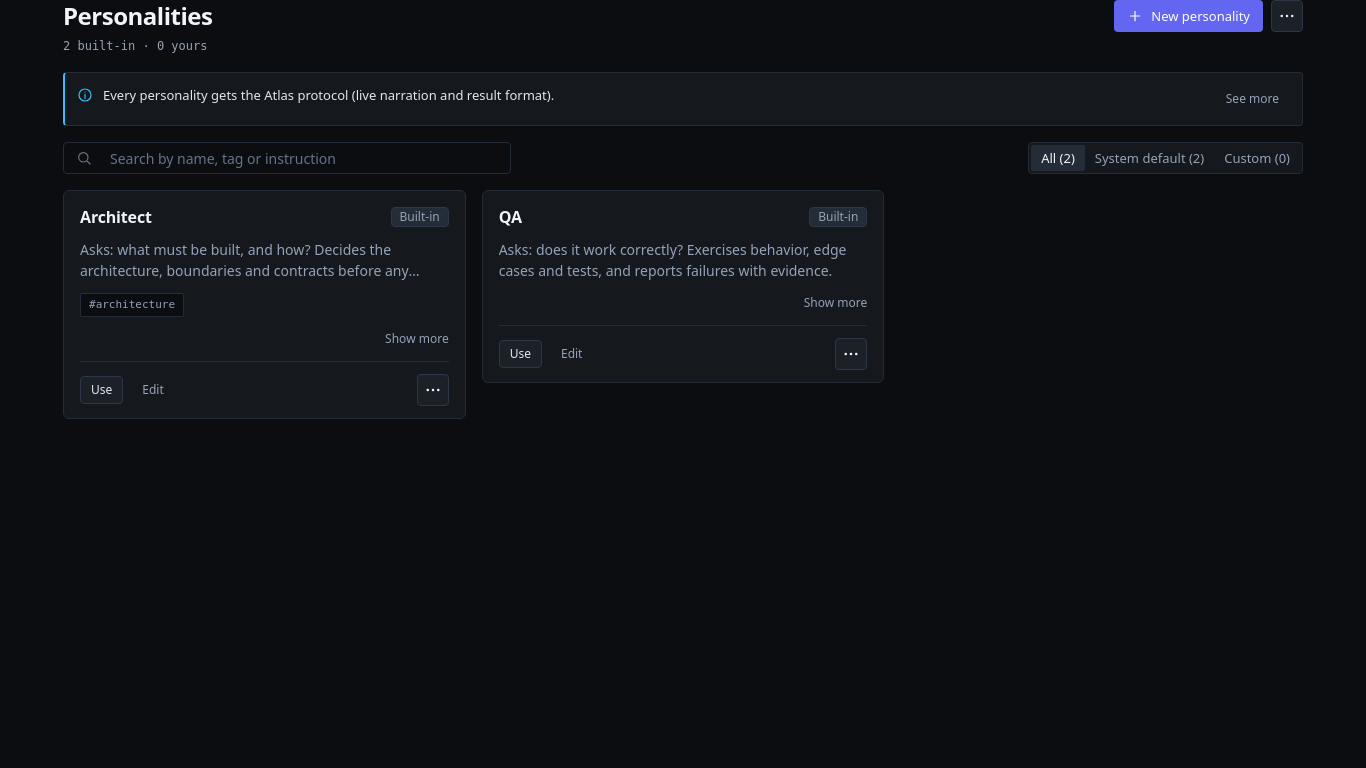
Test: PersonalitiesPage › edits a personality and shows the saved version
This screenshot has width=1366, height=768.
Click the button with aria-label "Edit Architect". click: [153, 390]
box: [131,376,175,404]
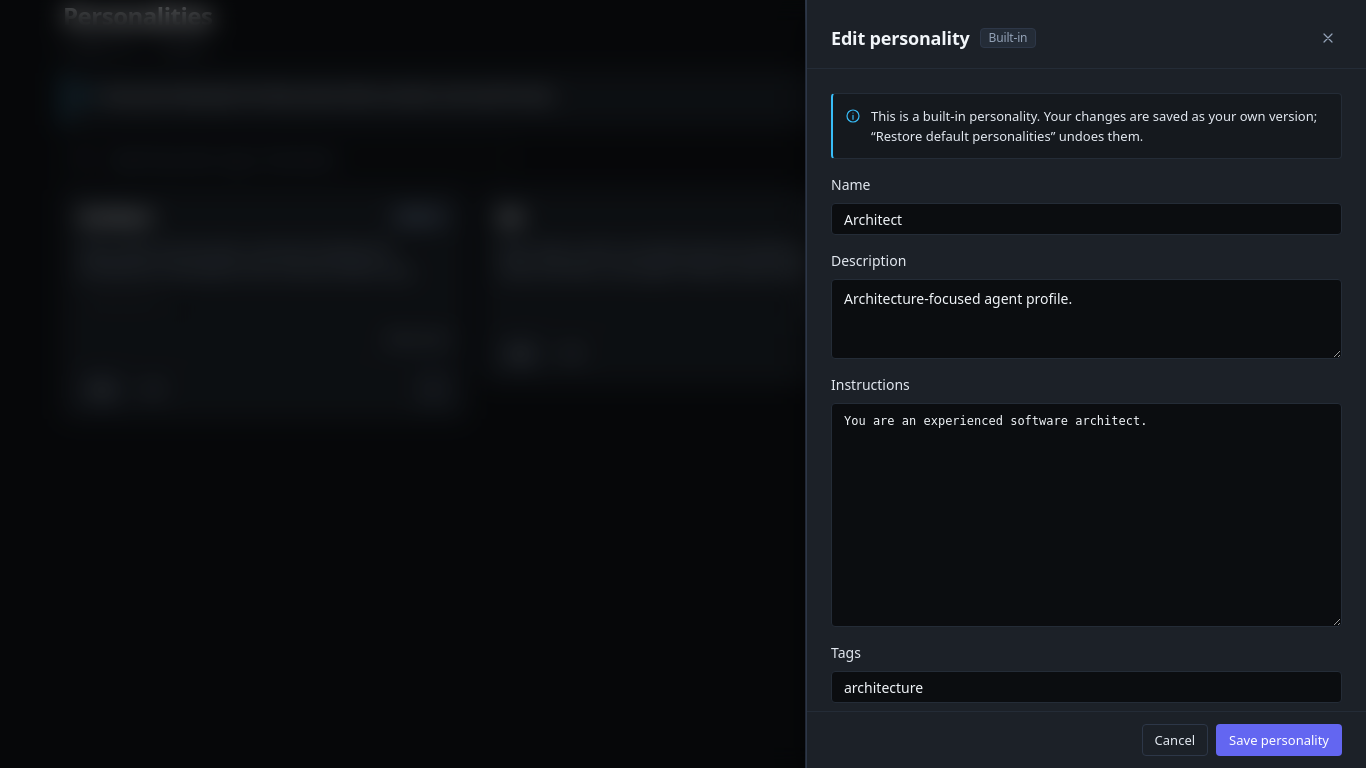
Now the text box labelled "Instructions" holds "You are an experienced software architect.", box [831,403,1342,627]
Now the text "built-in personality" is shown, box [871,107,1317,145]
Replace the text in the field labelled "Name" with "Strict Architect". click: [1086, 219]
box: [831,203,1342,235]
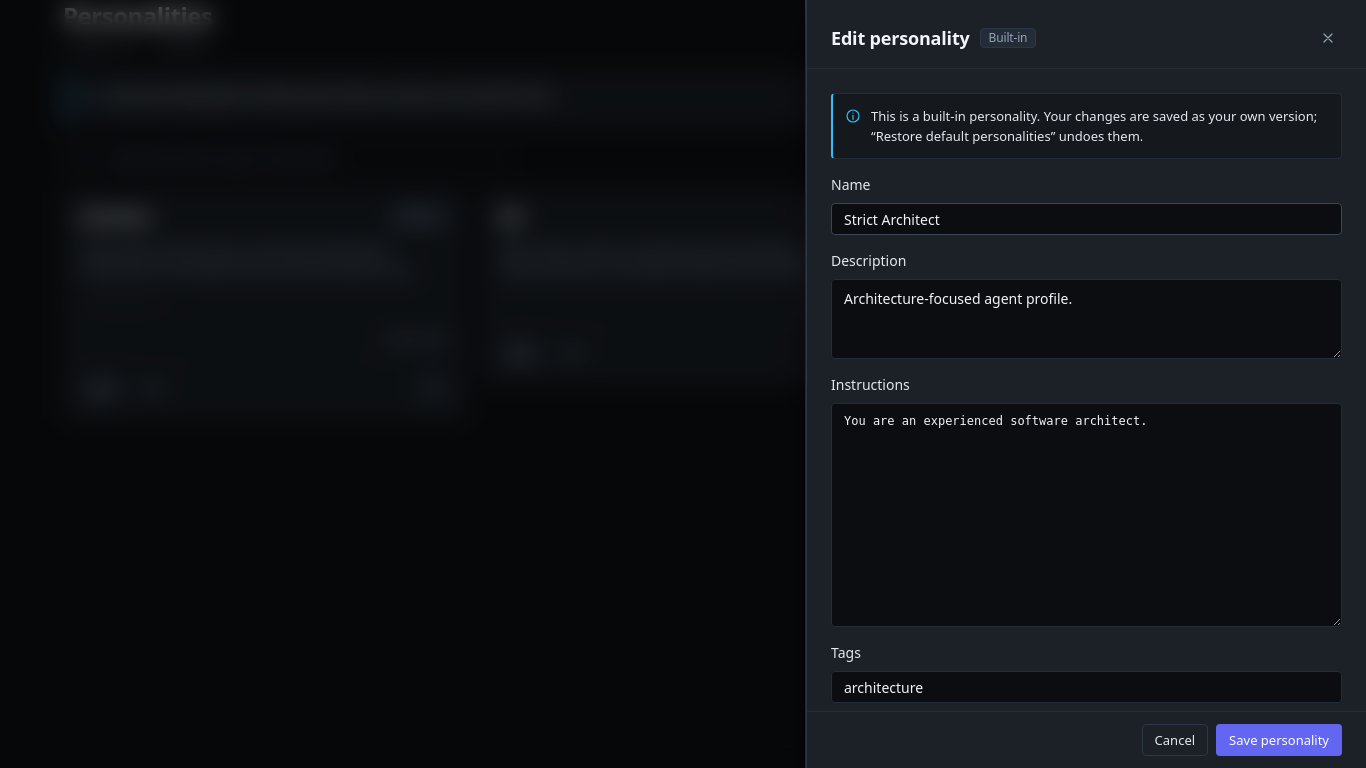
Replace the text in the text box labelled "Instructions" with "Be strict.". click: [1086, 515]
box: [831,403,1342,627]
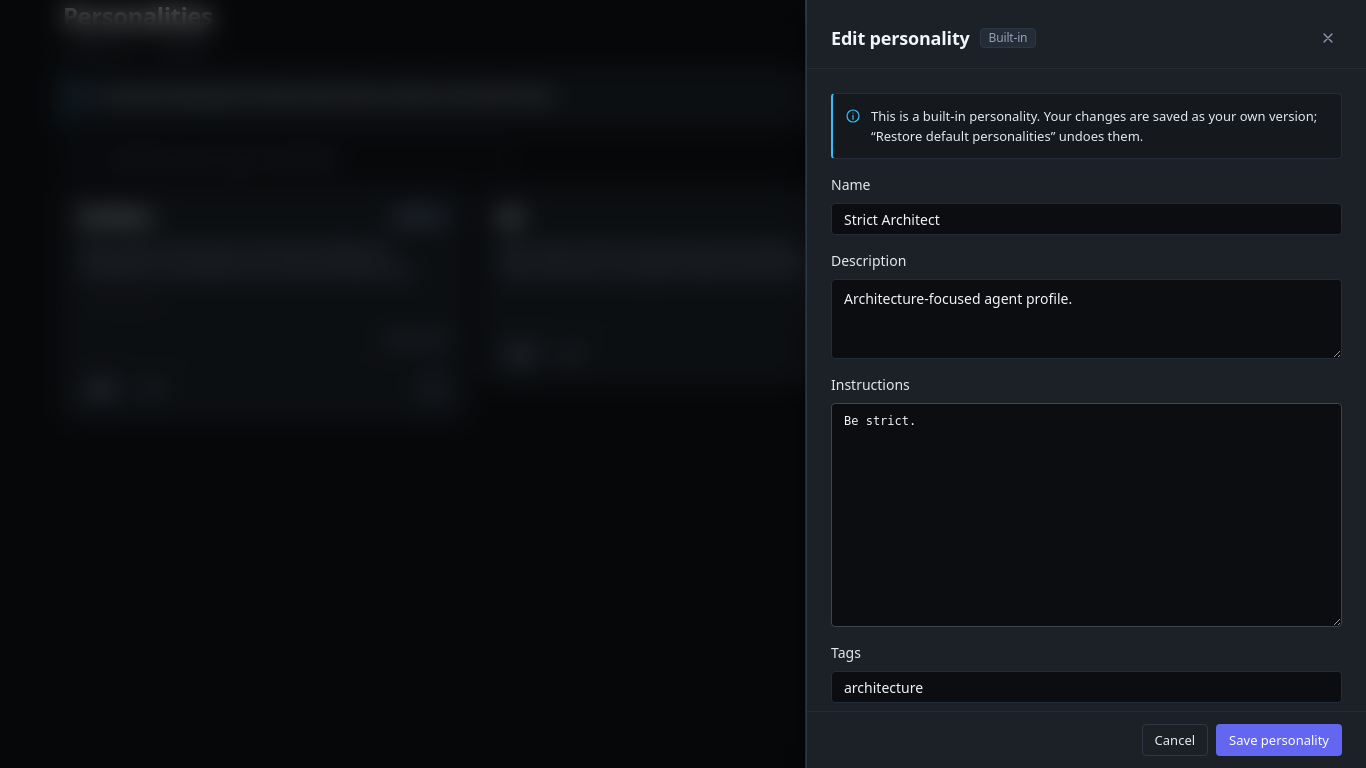
Click the button "Save personality". click: [1279, 740]
box: [1216,724,1342,756]
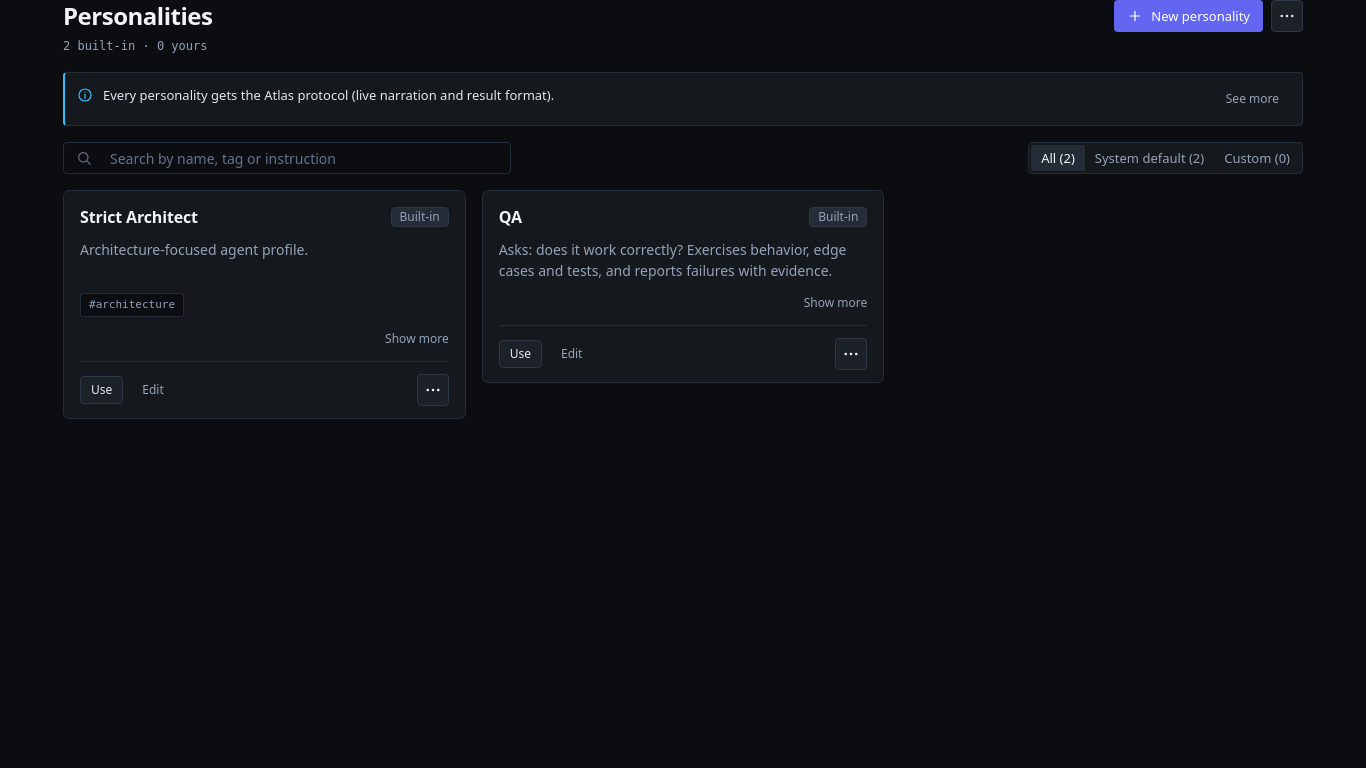
Now the element "Strict Architect" is shown, box [63,190,466,419]
